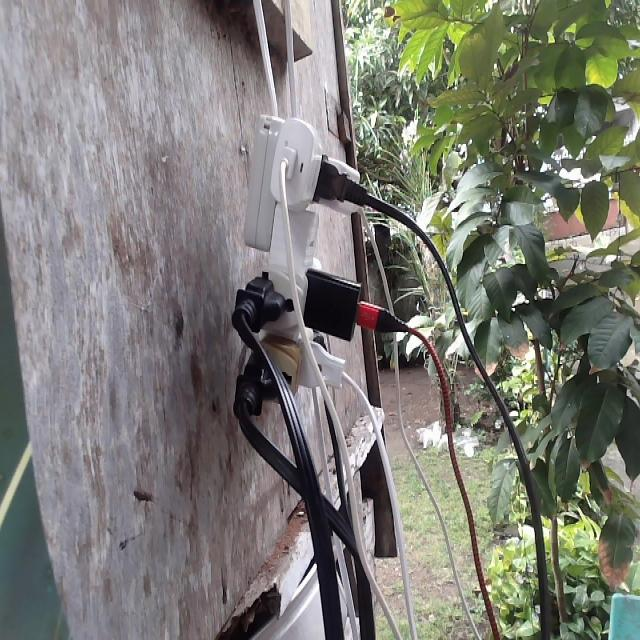-: (229, 114, 369, 422)
